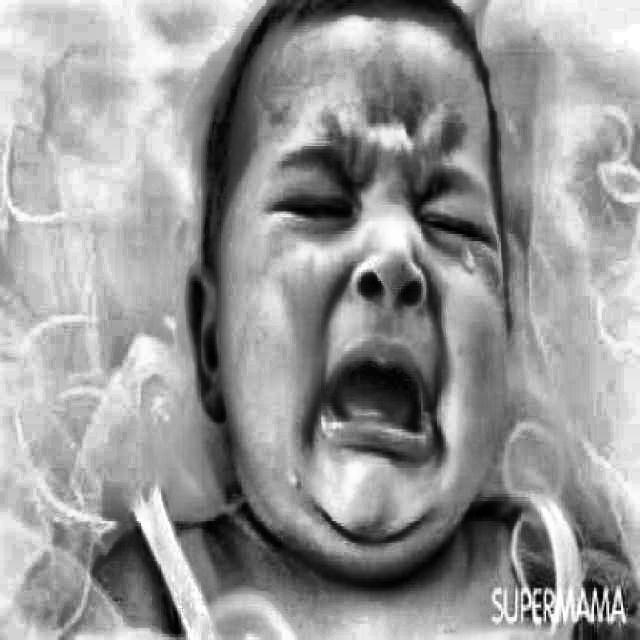sad: (223, 52, 514, 523)
